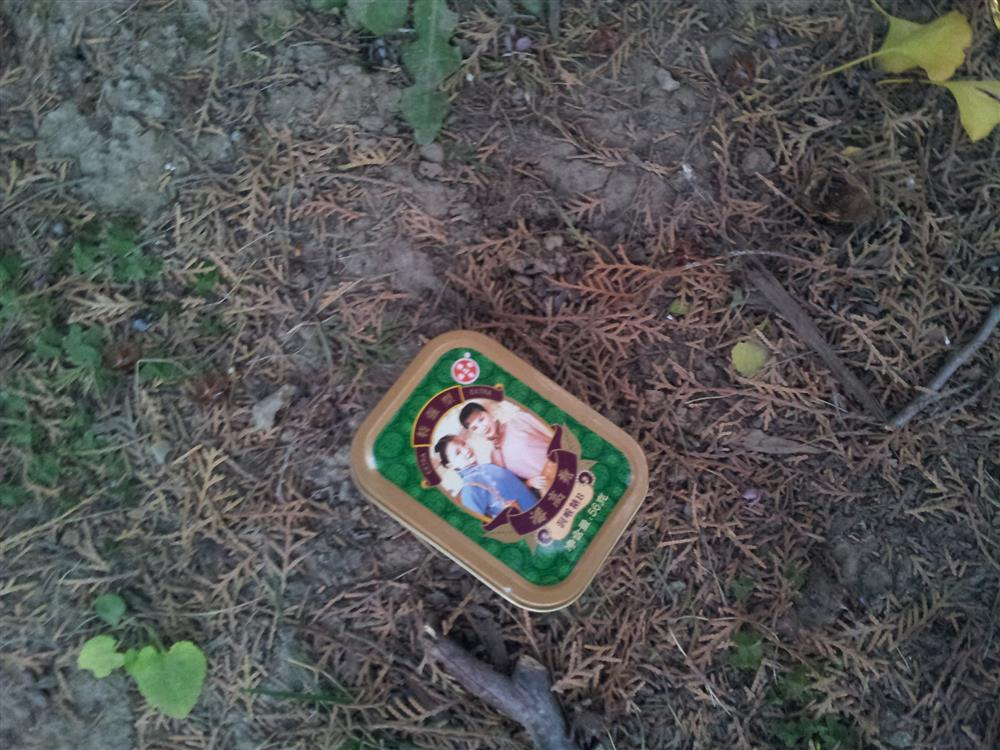pangaoshou: (348, 329, 652, 619)
